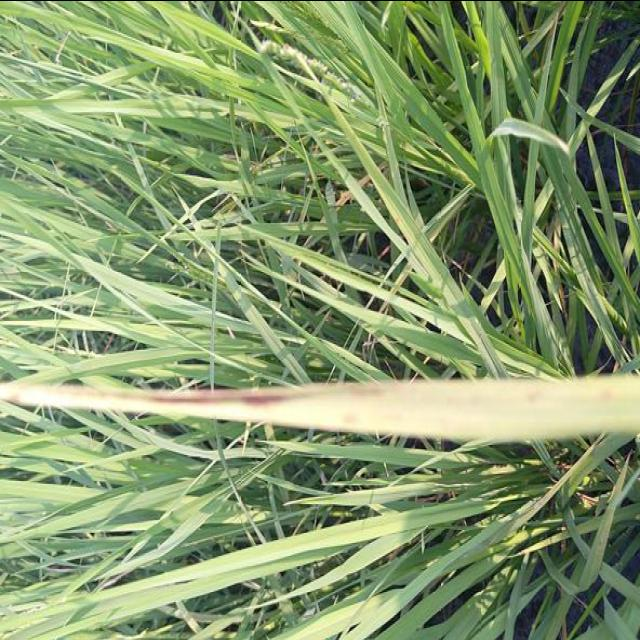Leaf Blight: (14, 385, 440, 430)
